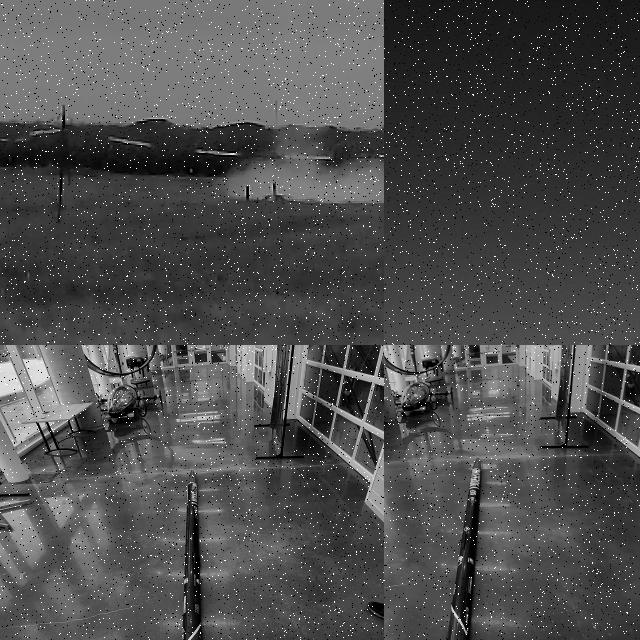Rocket: (446, 457, 482, 640), (182, 469, 201, 640)
